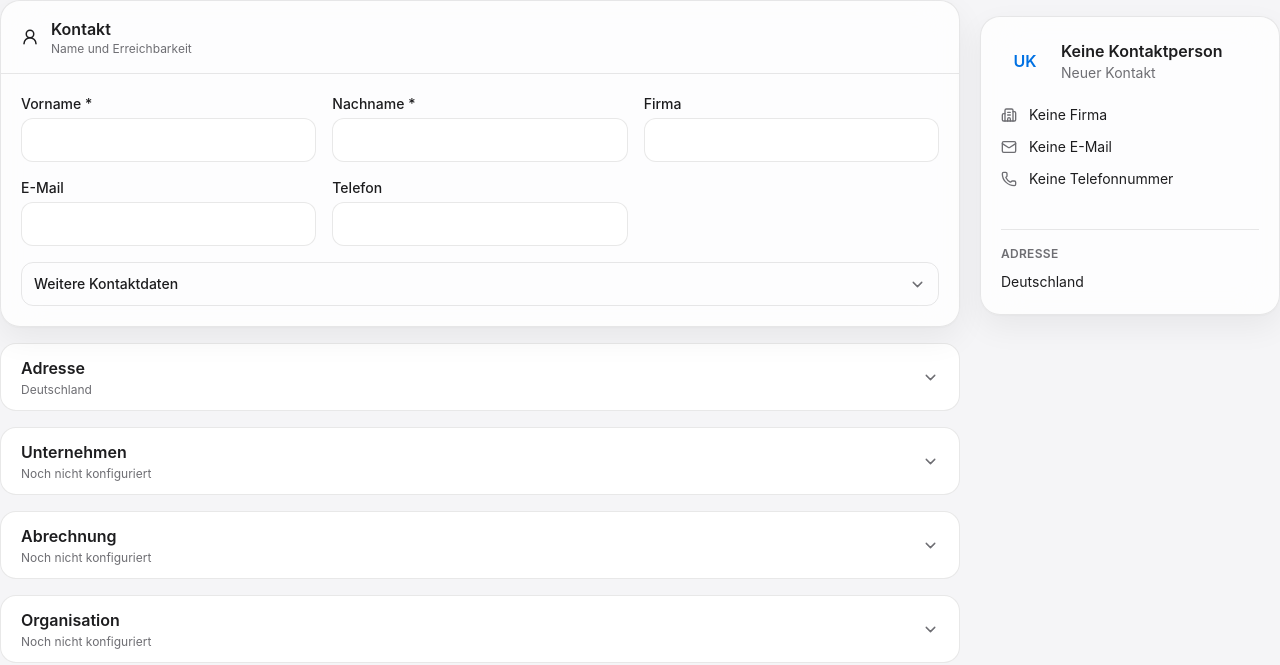
Test: CustomerForm required fields › uses customer-friendly wording for the next reminder
Click the text "Organisation" at {"x": 70, "y": 620}, box [21,610,120,630]
(page scrolled)
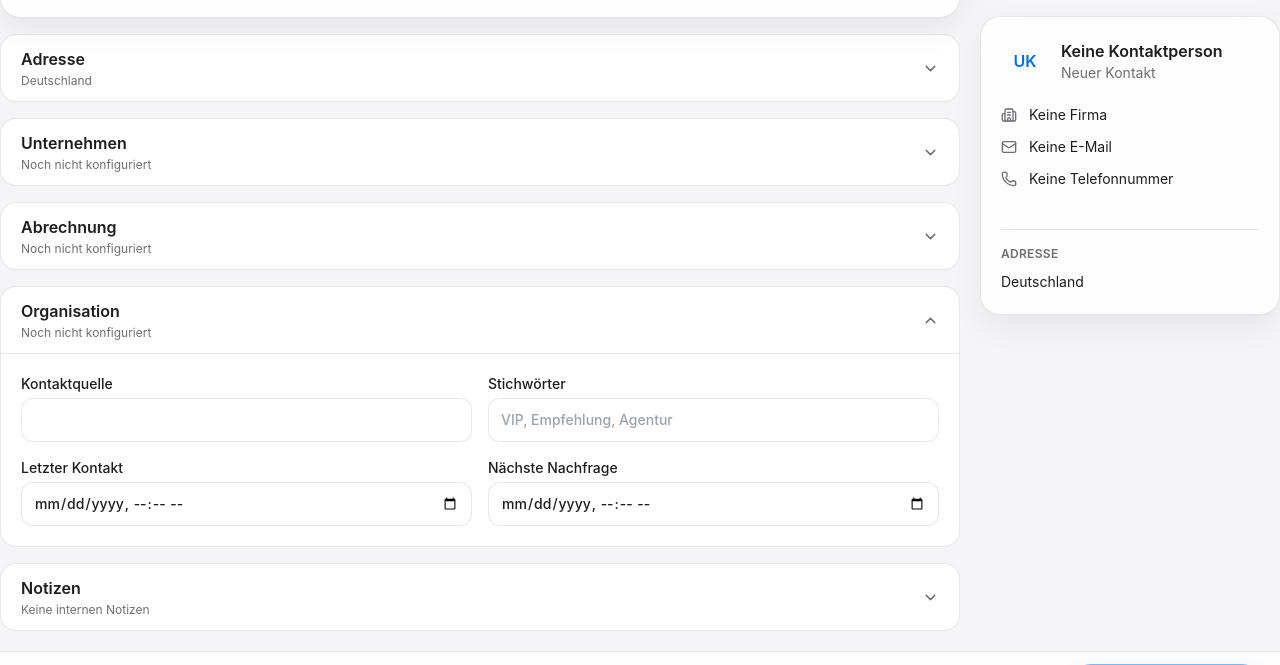
Check: the text "Nächste Nachfrage" is shown, box [488,458,939,526]
